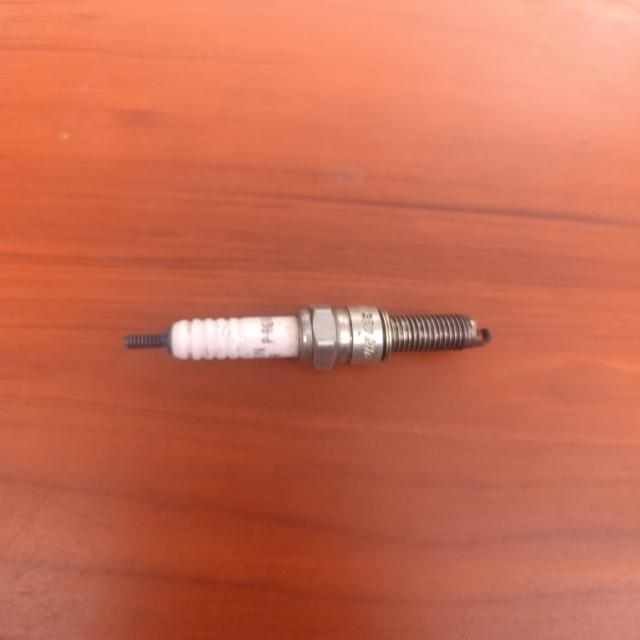bujia: (125, 305, 490, 369)
